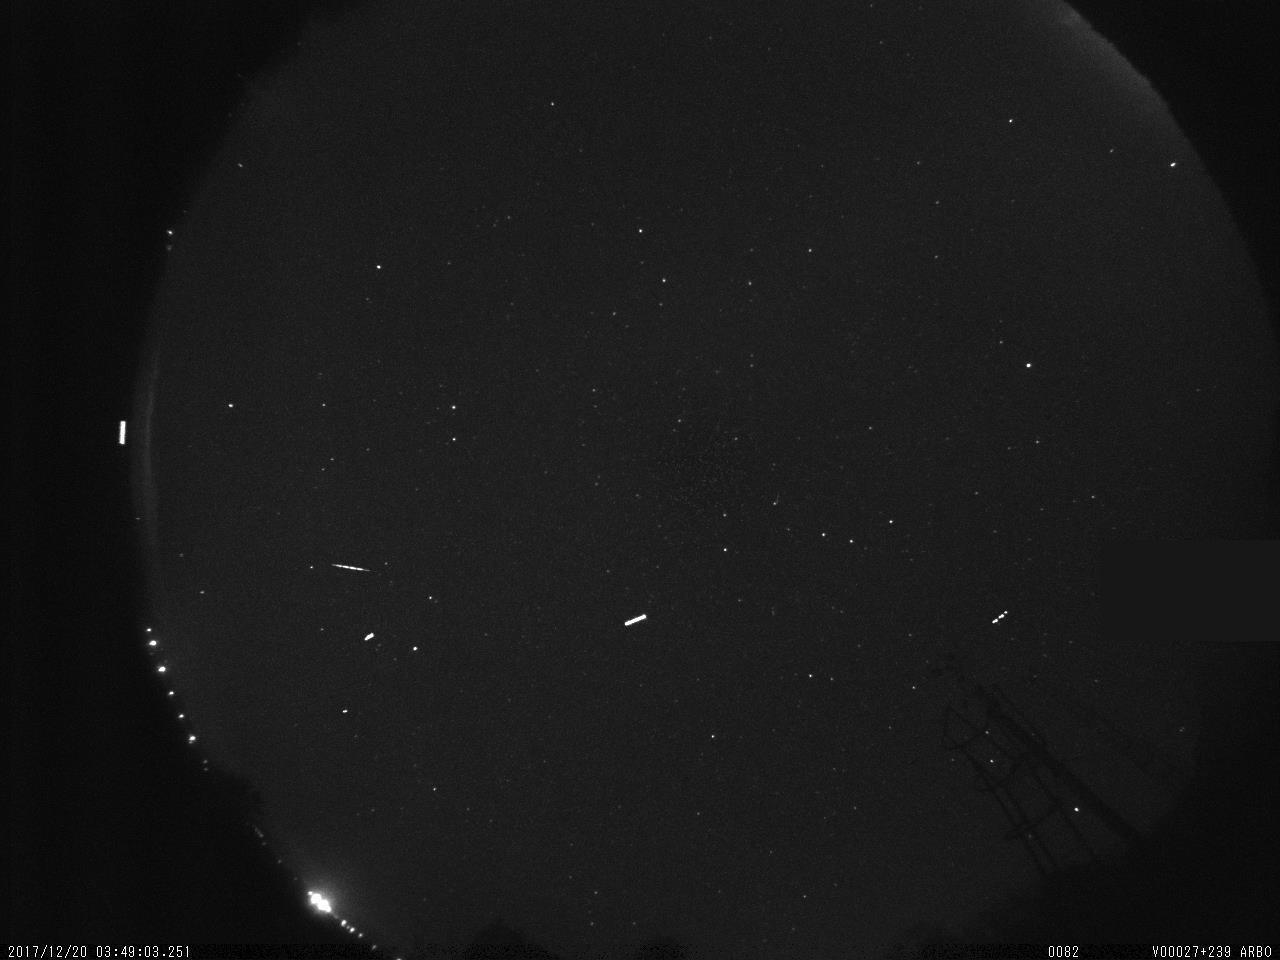Meteor: (330, 558, 370, 573)
